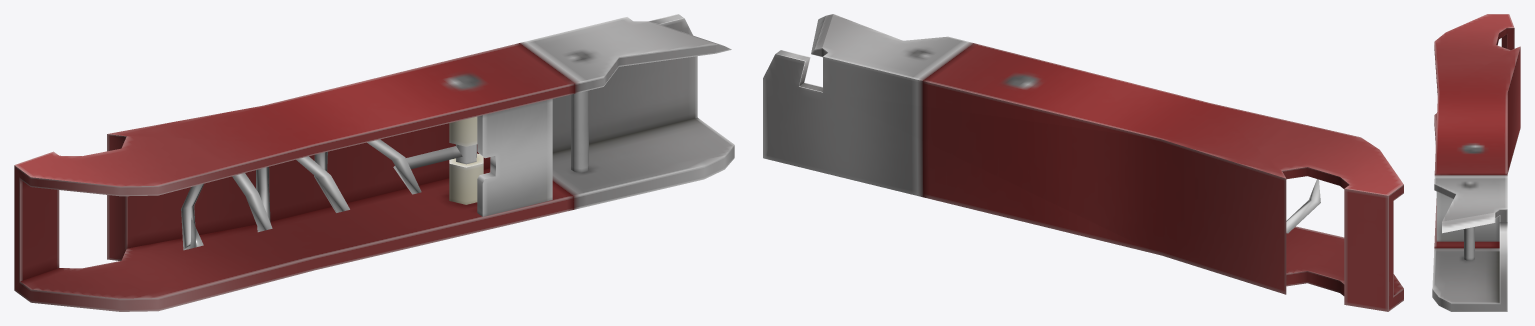
Rendered from KR_Can_opener_01_01.fbx.
The picture shows the model from 3 angles, left to right: view 1: azimuth 30°, elevation 25°; view 2: azimuth 150°, elevation 25°; view 3: azimuth 270°, elevation 25°; orthographic projection. The views are drawn at different scales.
Parts seen in each view (by area): view 1: can_opener_01, wine_opener0_1; view 2: can_opener_01, wine_opener0_1; view 3: can_opener_01.
Part boxes in pixels (<box>): can_opener_01: <box>14,14,734,311</box>; wine_opener0_1: <box>181,139,476,250</box>; can_opener_01: <box>763,14,1403,311</box>; wine_opener0_1: <box>1286,179,1320,233</box>; can_opener_01: <box>1432,14,1520,311</box>.
Bounding box in the file's own units: 11.9 × 2.11 × 2.05.
